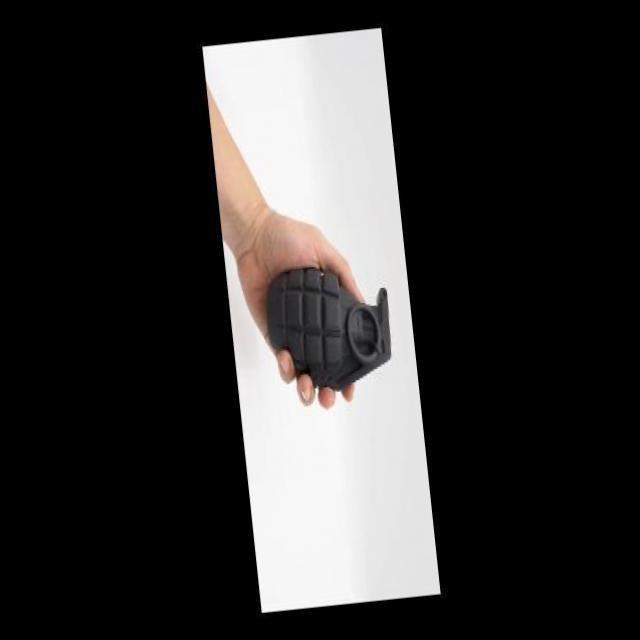grenade: (249, 254, 402, 409)
